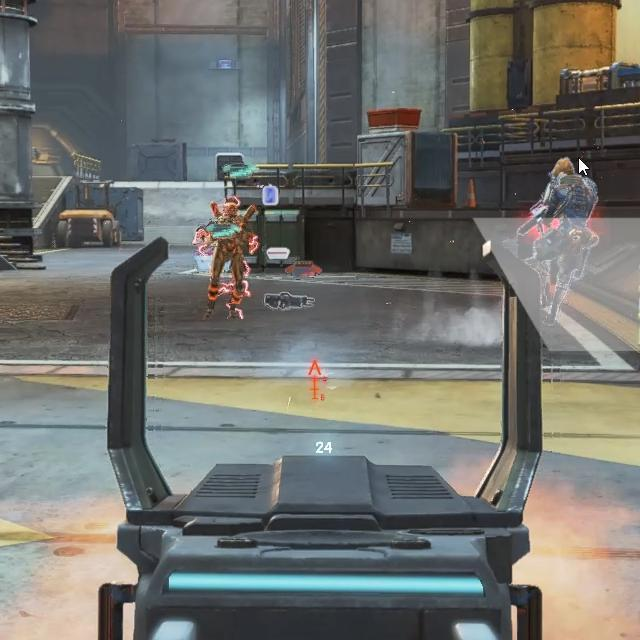avatar: (515, 153, 601, 325), (194, 194, 259, 322)
